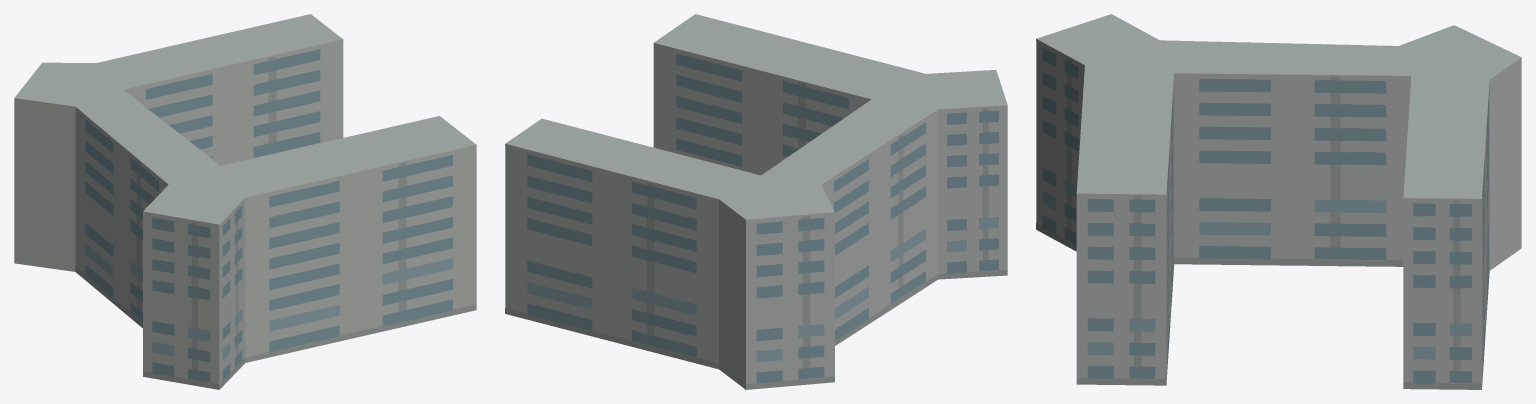
File: residential-71092a94-a1d6-4b4d-bc52-71860a031e2a.glb
The picture shows the model from 3 angles, left to right: view 1: azimuth 30°, elevation 25°; view 2: azimuth 150°, elevation 25°; view 3: azimuth 270°, elevation 25°; orthographic projection. The views are drawn at different scales.
Parts seen in each view (by area): view 1: residential-71092a94-a1d6-4b4d-bc52-71860a031e2a.tmp; view 2: residential-71092a94-a1d6-4b4d-bc52-71860a031e2a.tmp; view 3: residential-71092a94-a1d6-4b4d-bc52-71860a031e2a.tmp.
Boxes of the visible parts, x1,y1,x2,y2 form: residential-71092a94-a1d6-4b4d-bc52-71860a031e2a.tmp: [14, 14, 476, 389]; residential-71092a94-a1d6-4b4d-bc52-71860a031e2a.tmp: [505, 14, 1007, 389]; residential-71092a94-a1d6-4b4d-bc52-71860a031e2a.tmp: [1036, 14, 1521, 389].
Size of the model in its own units: 49.86 by 24 by 55.31.
